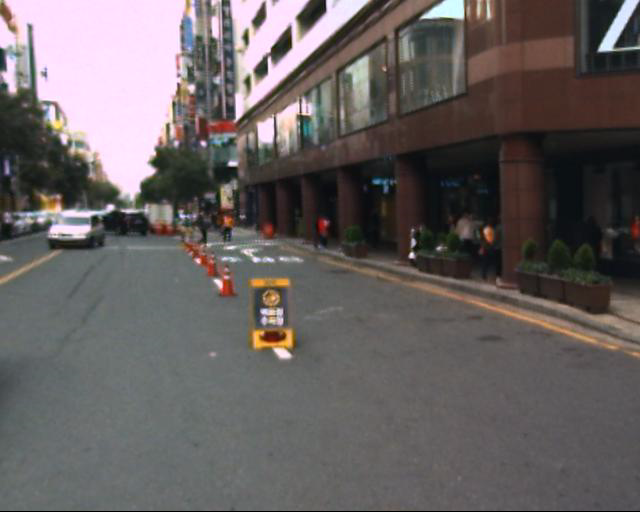person: (469, 211, 507, 292), (480, 211, 516, 289), (558, 202, 592, 280), (571, 210, 608, 277), (305, 205, 335, 260)
